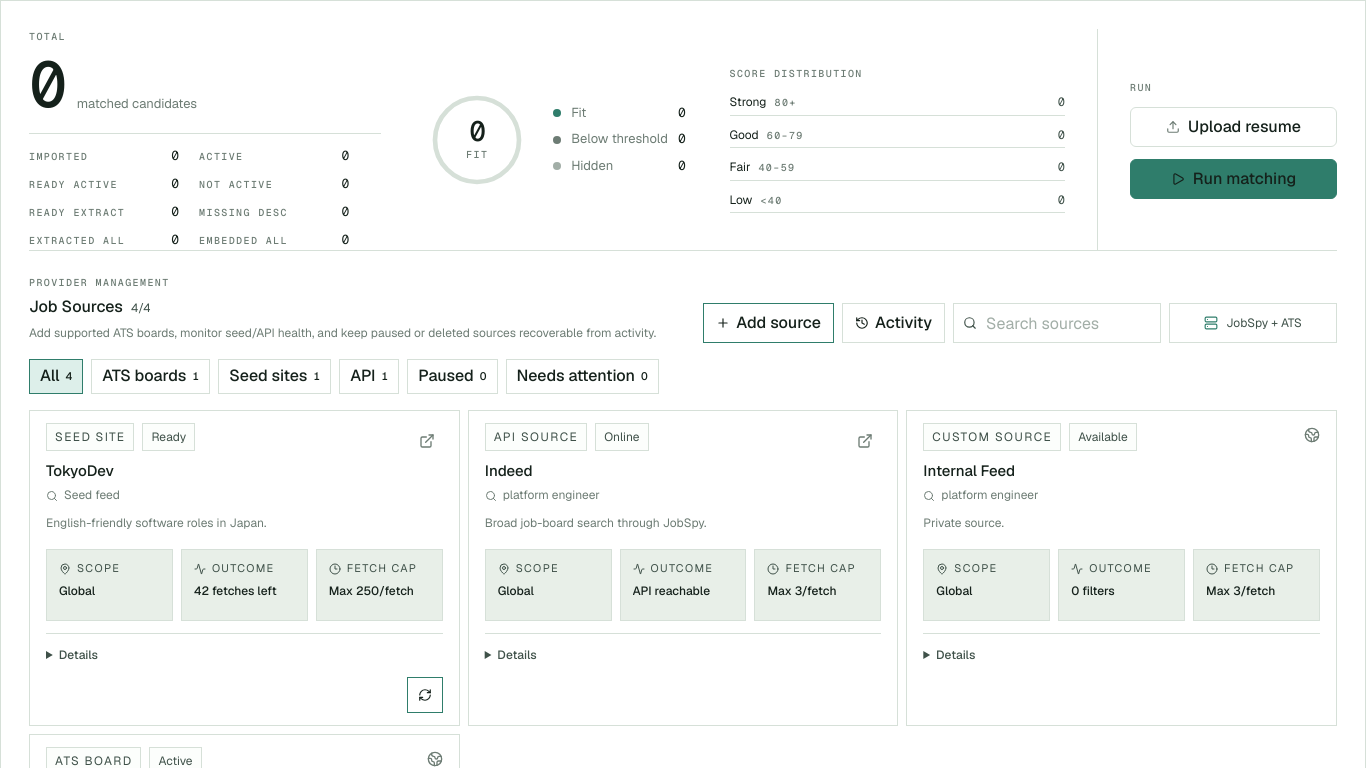
Test case: DashboardControls › stats and status › filters source search locally without refetching API status
The image size is (1366, 768).
Expected: the heading "TokyoDev" is shown, top-left (46, 461), bottom-right (114, 480)
Type "internal" into the field labelled "Search sources".
click(1057, 323); type("internal")  # box top-left (953, 303), bottom-right (1161, 343)
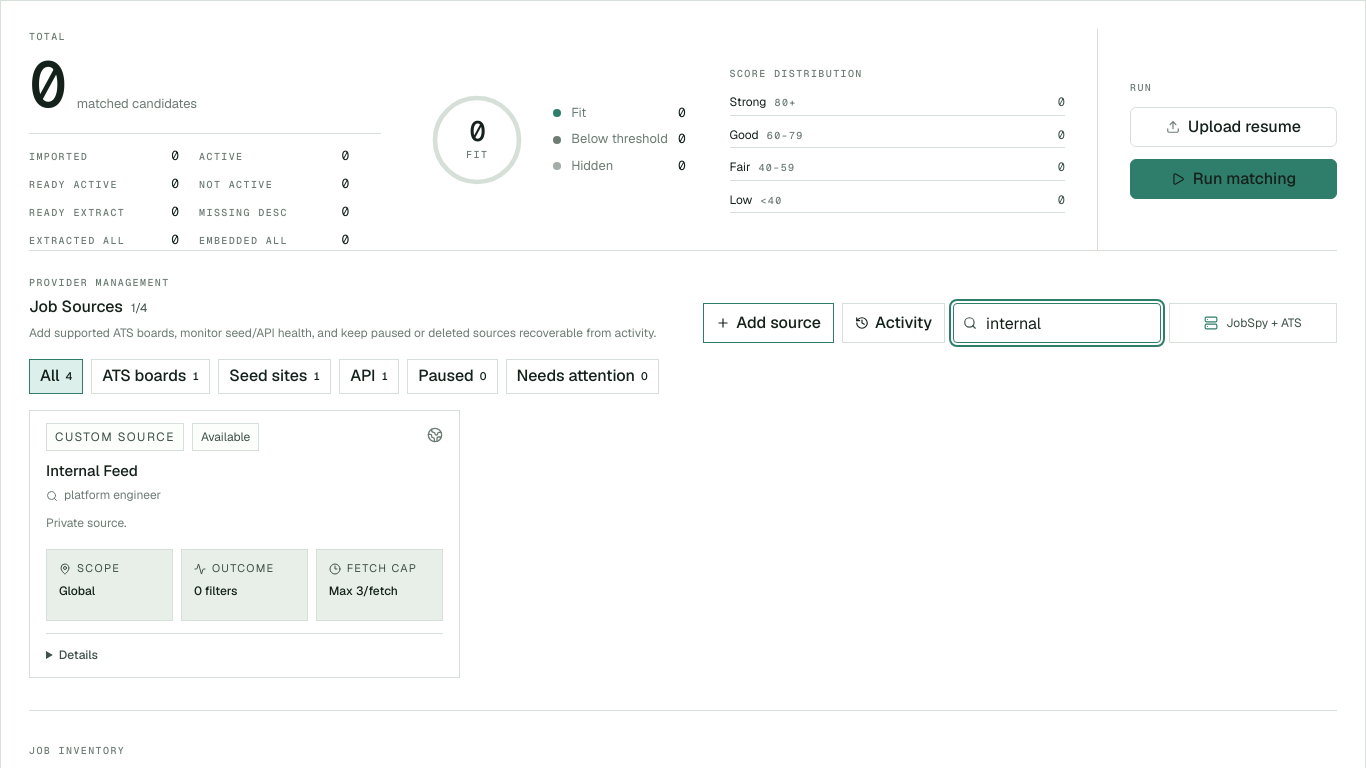
Expected: the heading "Internal Feed" is shown, top-left (46, 461), bottom-right (138, 480)
Result: the heading "TokyoDev" is gone
